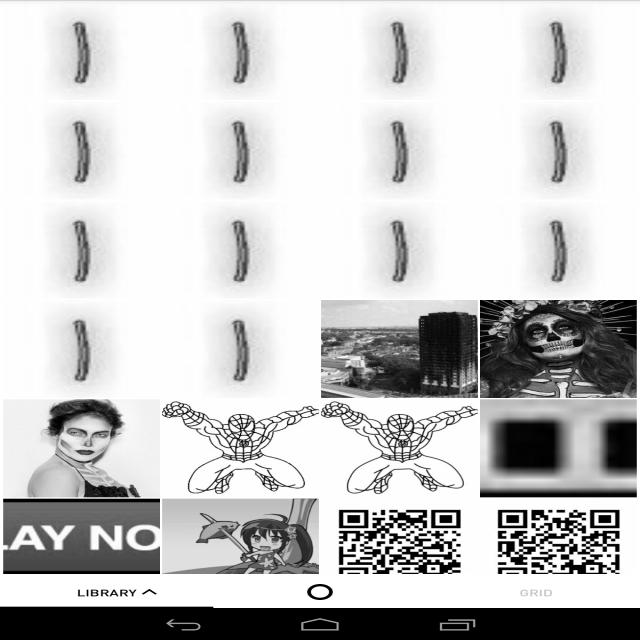ImageView: (3, 2, 160, 100), (162, 2, 319, 100), (321, 2, 478, 100), (480, 2, 637, 100), (3, 102, 160, 200), (162, 102, 319, 200), (321, 102, 478, 200), (480, 102, 637, 200), (3, 200, 160, 298), (162, 200, 319, 298), (321, 200, 478, 298), (480, 200, 637, 298), (3, 300, 160, 398), (162, 300, 319, 398), (321, 300, 478, 398), (480, 300, 637, 398), (3, 400, 160, 498), (162, 400, 319, 498), (321, 400, 478, 498), (480, 400, 637, 498), (3, 498, 160, 596), (162, 498, 319, 596), (321, 498, 478, 596), (480, 498, 637, 596), (2, 541, 140, 568), (144, 541, 282, 568), (286, 541, 423, 568), (428, 541, 565, 568), (436, 482, 501, 518), (8, 482, 72, 518), (79, 482, 143, 518), (150, 482, 214, 518), (222, 482, 286, 518), (294, 482, 358, 518), (365, 482, 429, 518), (508, 482, 572, 518), (579, 482, 640, 518), (569, 541, 640, 567), (307, 584, 333, 600), (142, 589, 157, 595)
TextView: (440, 585, 627, 599), (436, 482, 501, 518), (8, 482, 72, 518), (79, 482, 143, 518), (150, 482, 214, 518), (222, 482, 286, 518), (294, 482, 358, 518), (365, 482, 429, 518), (508, 482, 572, 518), (579, 482, 640, 518), (77, 585, 136, 599), (436, 518, 501, 530), (8, 518, 72, 530), (79, 518, 143, 530), (150, 518, 214, 530), (222, 518, 286, 530), (294, 518, 358, 530), (365, 518, 429, 530), (508, 518, 572, 530), (579, 518, 640, 530)
